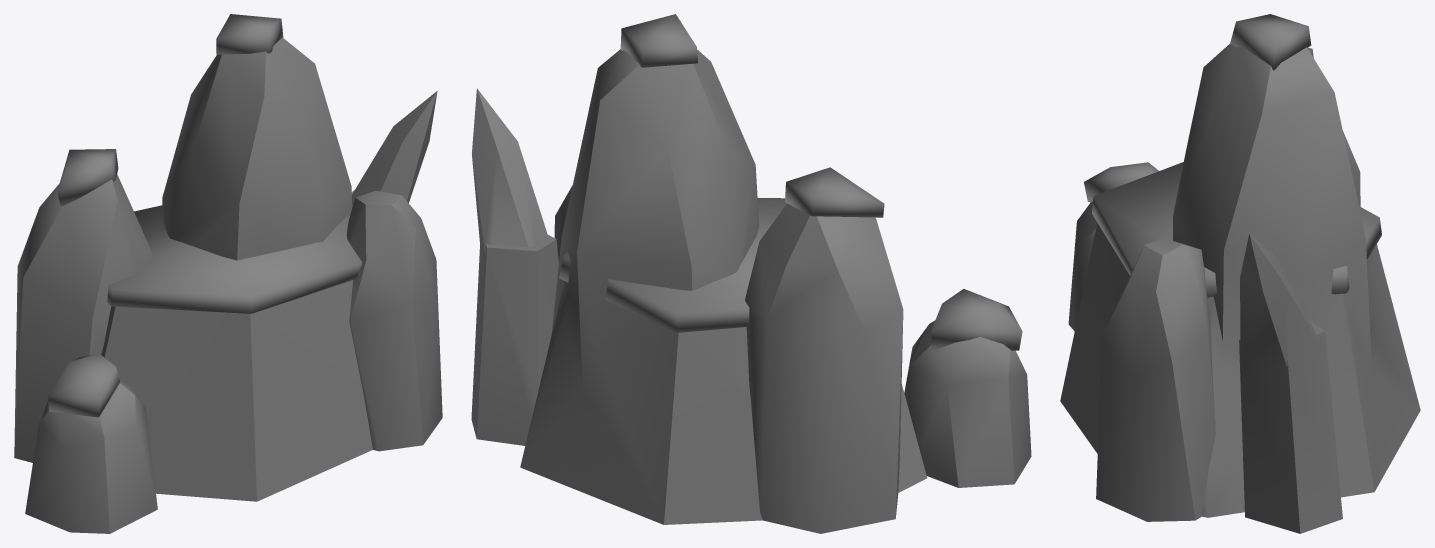
The model's file is rocks_snow_A_lavender.fbx.
3 views of the same model, side by side, from view 1: azimuth 30°, elevation 25°; view 2: azimuth 150°, elevation 25°; view 3: azimuth 270°, elevation 25° (orthographic). The views are drawn at different scales.
Parts seen in each view (by area): view 1: rocks_snow_A_lavender; view 2: rocks_snow_A_lavender; view 3: rocks_snow_A_lavender.
Part boxes in pixels (bbox=[...]): rocks_snow_A_lavender: bbox=[14, 14, 442, 533]; rocks_snow_A_lavender: bbox=[471, 14, 1031, 533]; rocks_snow_A_lavender: bbox=[1060, 14, 1420, 533].
Bounding box in the file's own units: 5.36 × 4.43 × 3.36.
